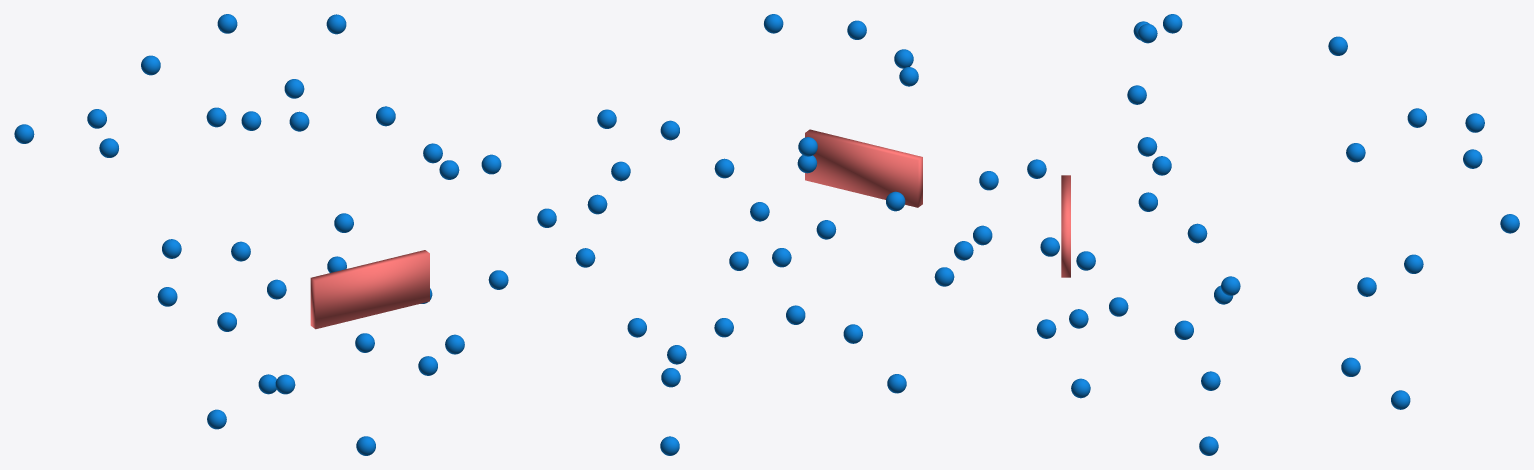
The model's file is asset.glb.
The picture shows the model from 3 angles, left to right: view 1: azimuth 30°, elevation 25°; view 2: azimuth 150°, elevation 25°; view 3: azimuth 270°, elevation 25°; orthographic projection.
Parts seen in each view (by area): view 1: Mg_Ribbon; view 2: Mg_Ribbon; view 3: Mg_Ribbon.
Part boxes in pixels (x1,y1,x2,y2): Mg_Ribbon: [310, 250, 429, 329]; Mg_Ribbon: [805, 129, 922, 207]; Mg_Ribbon: [1061, 175, 1070, 277].
Size of the model in its own units: 6.08 by 6.01 by 7.56.
